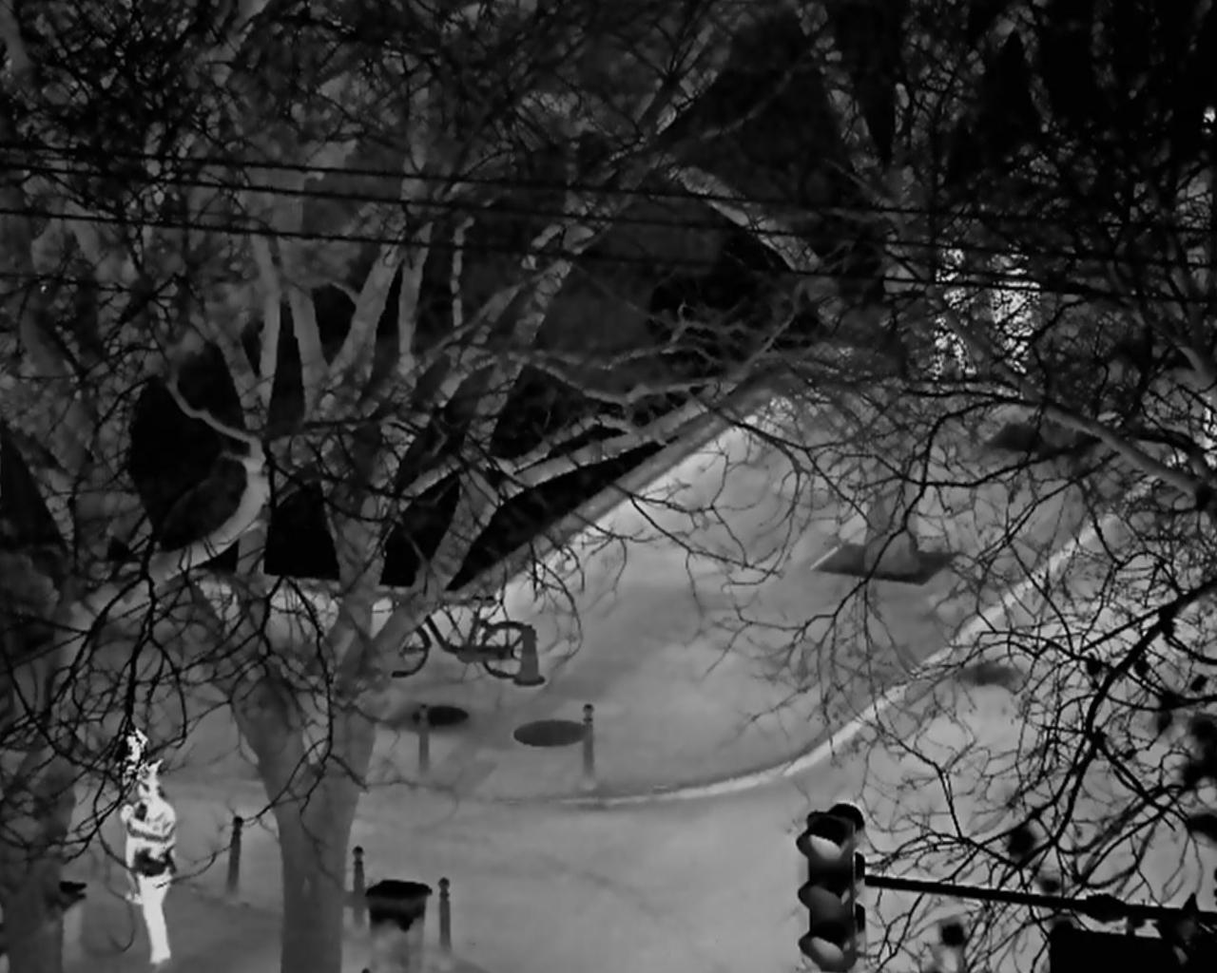person: (125, 771, 176, 965), (928, 248, 974, 387), (989, 254, 1040, 368)
